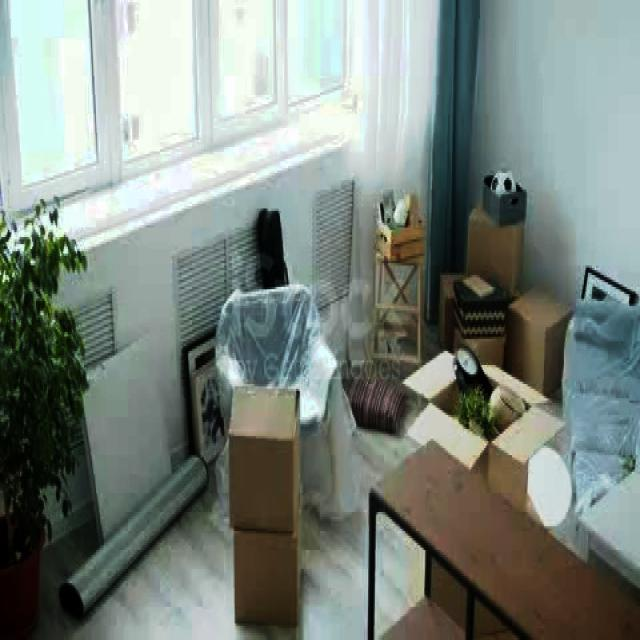Box: (226, 392, 299, 527), (230, 515, 298, 634), (508, 299, 570, 385), (468, 214, 519, 290)
